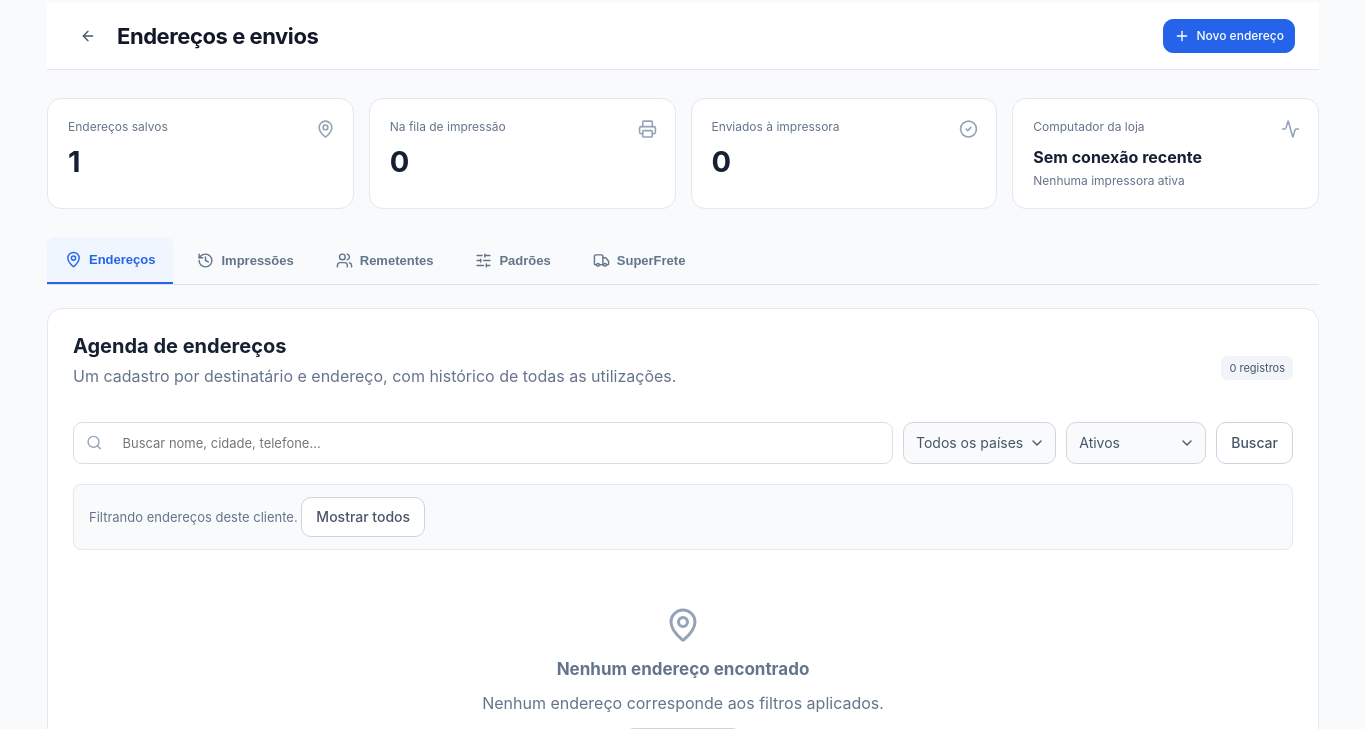
Address search empty states › applies country, archived and customer filters without changing their query semantics, then explicitly resets them
Click the button "Todos os países". click: (980, 443)
box: [904,423,1055,463]
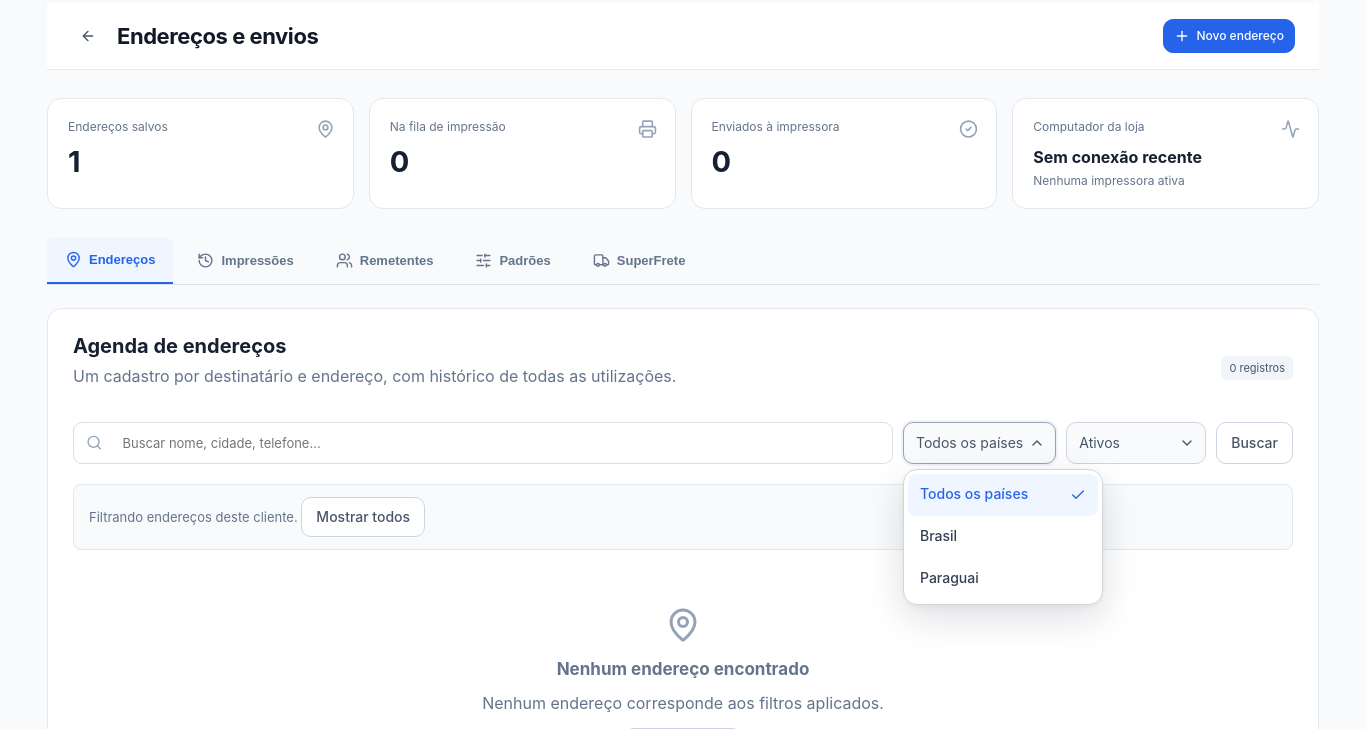
Click the option "Paraguai". click: (1003, 579)
box: [908,558,1098,600]
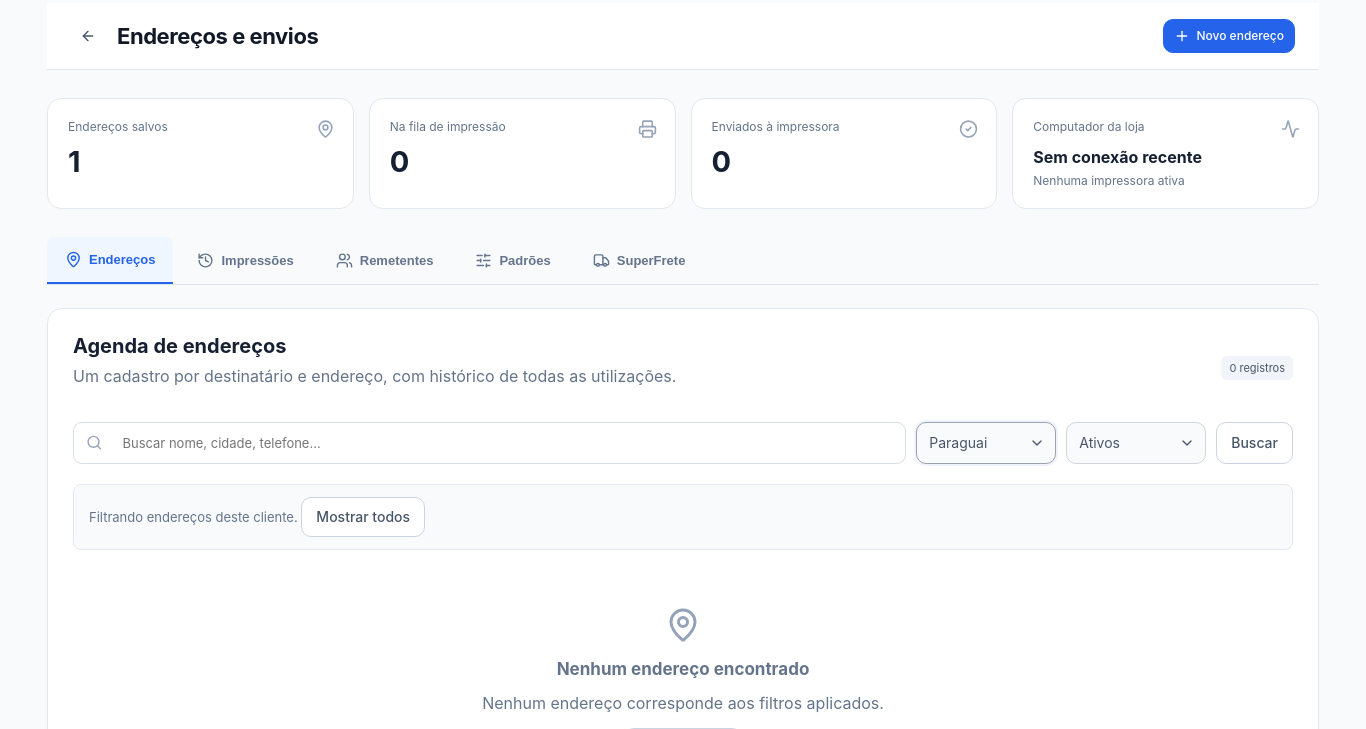
Click the button "Ativos". click: (1136, 443)
box: [1067,423,1205,463]
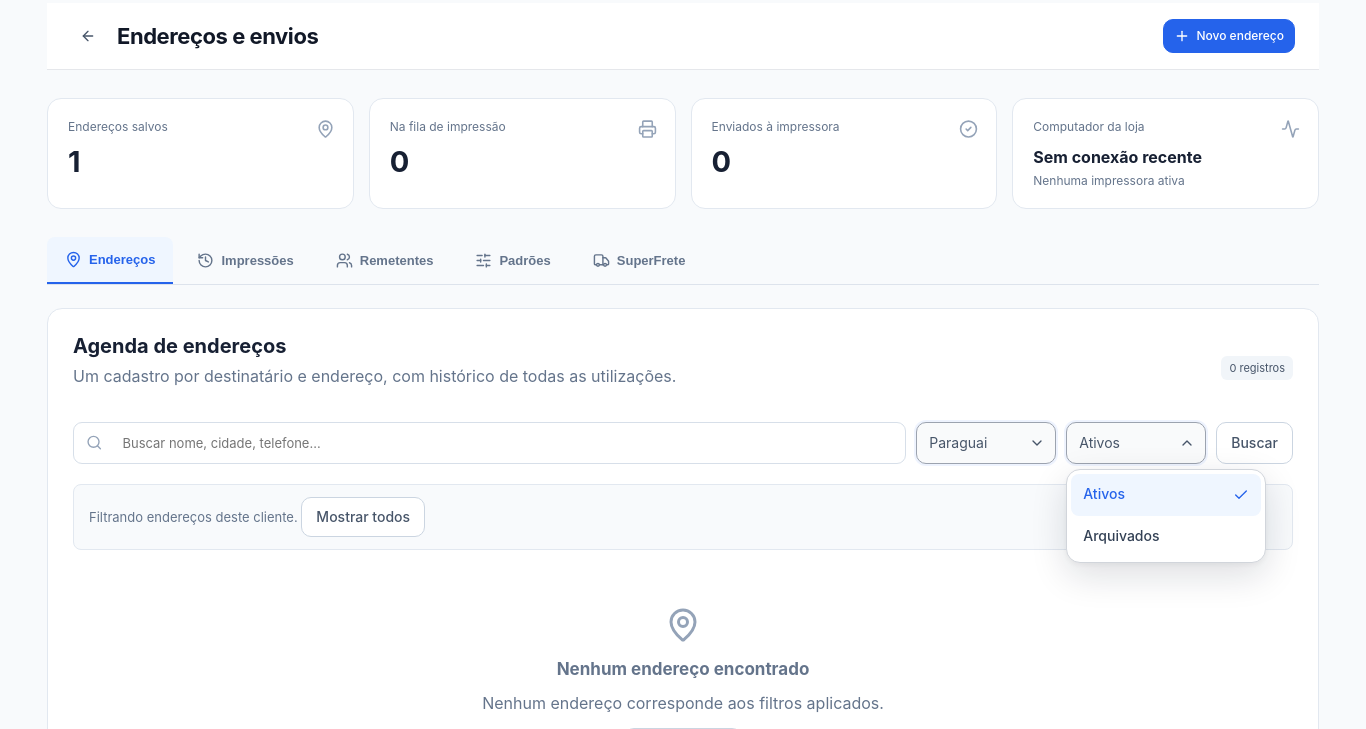
Click the option "Arquivados". click: (1166, 537)
box: [1071,516,1261,558]
(page scrolled)
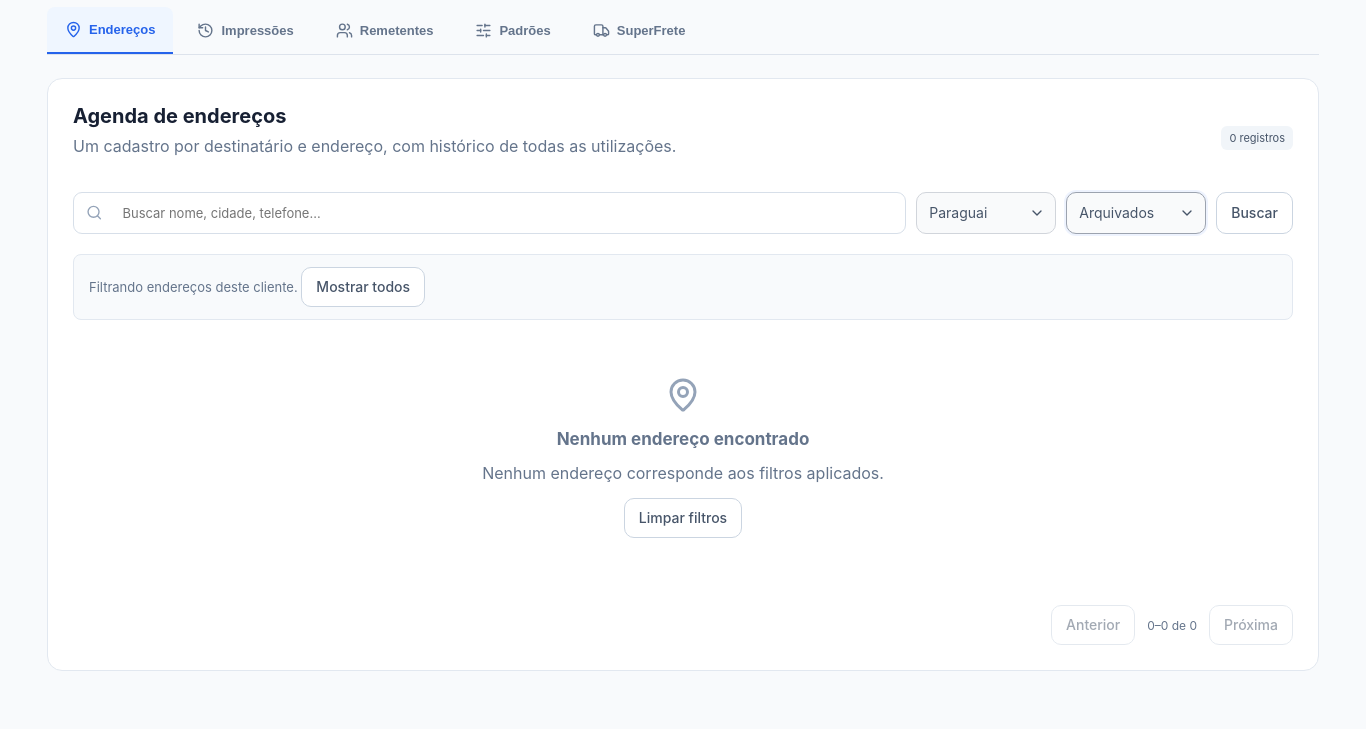
Check: the heading "Nenhum endereço encontrado" is shown, box [557,429,809,449]
Click the button "Limpar filtros". click: (683, 518)
box: [624,498,742,538]
(page scrolled)
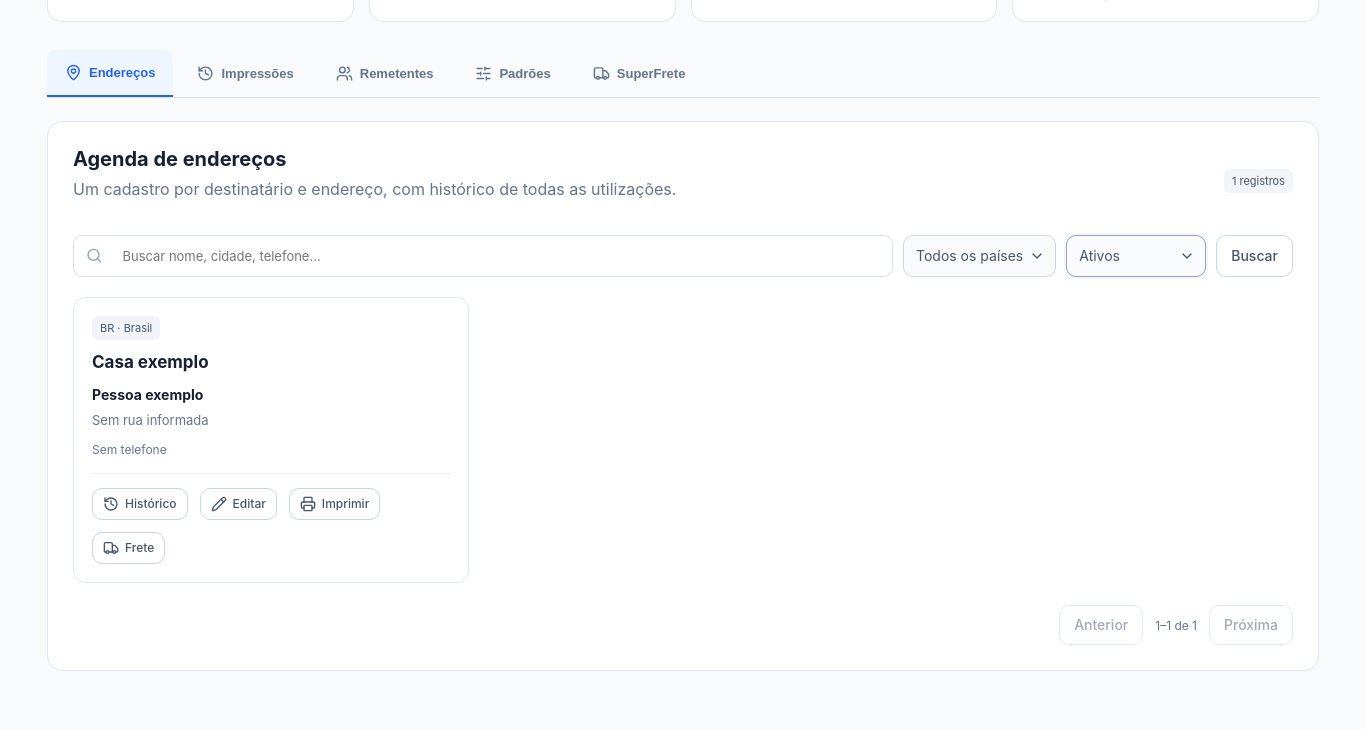
Check: the number of elements with class "address-card" is 1, box [73,297,469,583]
